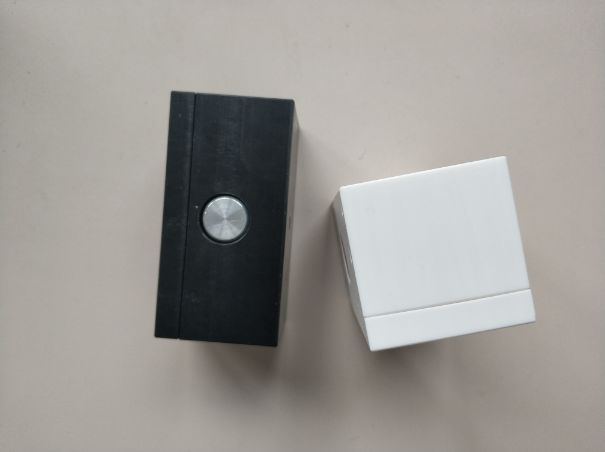black+black+silver: (152, 88, 304, 348)
